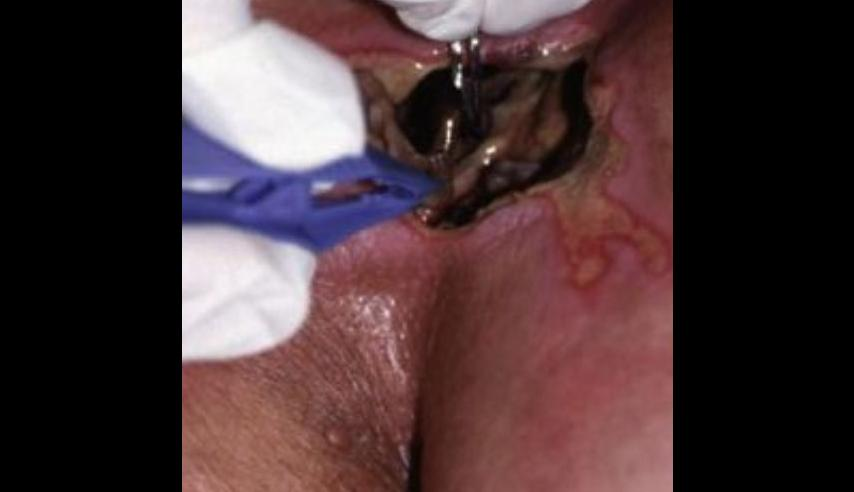Stage3: (345, 34, 620, 223)
